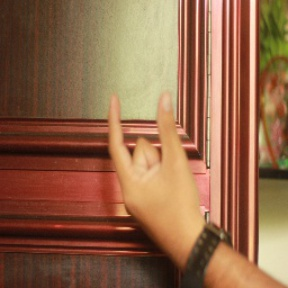U: (103, 80, 199, 225)
